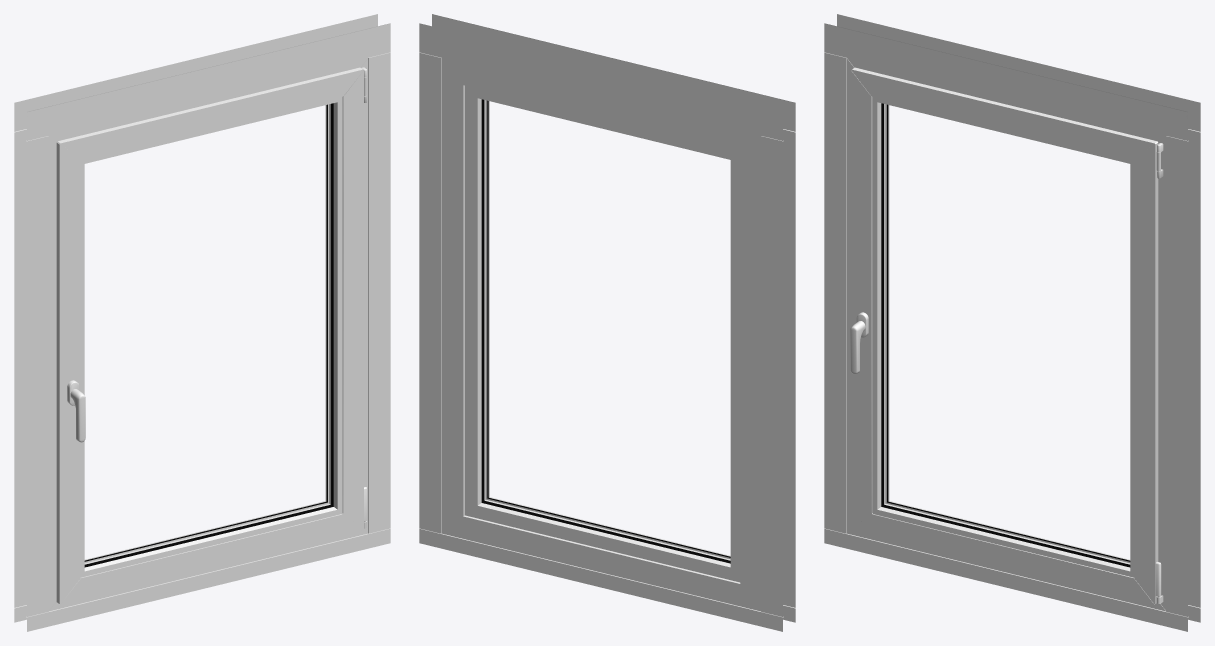
Rendered from residential_window.glb.
3 renders of one model, left to right at view 1: azimuth 30°, elevation 25°; view 2: azimuth 150°, elevation 25°; view 3: azimuth 330°, elevation 25°, orthographic.
Visible parts, largest first — view 1: #WIN0003_Frame_#WIN0003_Textures_0; view 2: #WIN0003_Frame_#WIN0003_Textures_0; view 3: #WIN0003_Frame_#WIN0003_Textures_0.
Part boxes in pixels (x1=…): #WIN0003_Frame_#WIN0003_Textures_0: x1=14, y1=14, x2=390, y2=631; #WIN0003_Frame_#WIN0003_Textures_0: x1=419, y1=14, x2=795, y2=631; #WIN0003_Frame_#WIN0003_Textures_0: x1=824, y1=14, x2=1200, y2=631.
Size of the model in its own units: 1.04 by 1.42 by 0.128.
Materials: 1 (1 with a texture image).
